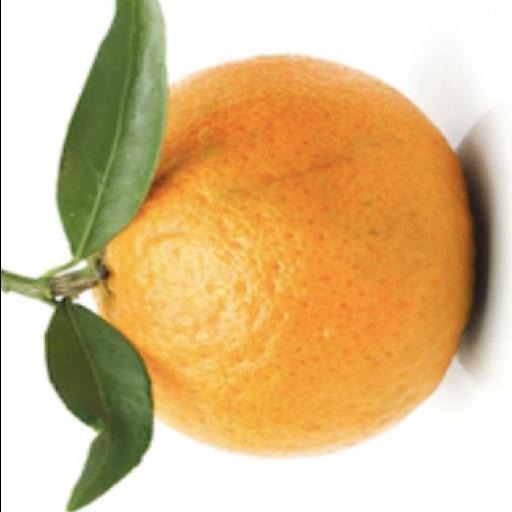orange: (96, 55, 473, 455)
